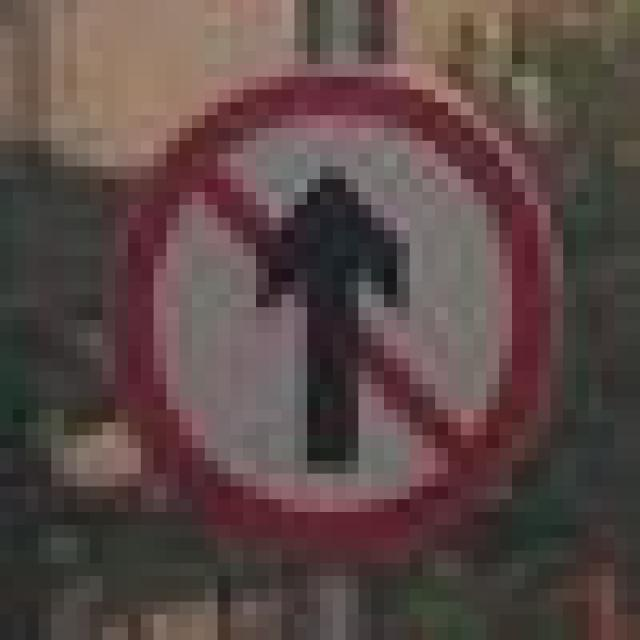STRAIGHT_PROHIBITED: (102, 64, 550, 550)
